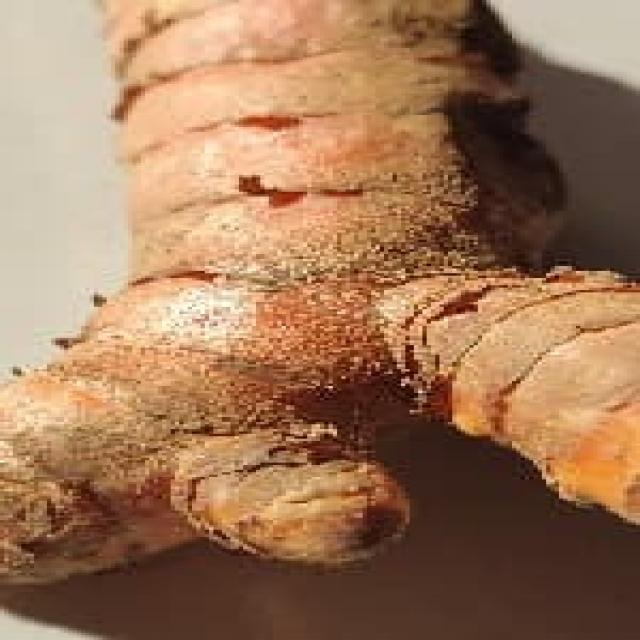ginger: (32, 0, 636, 567)
